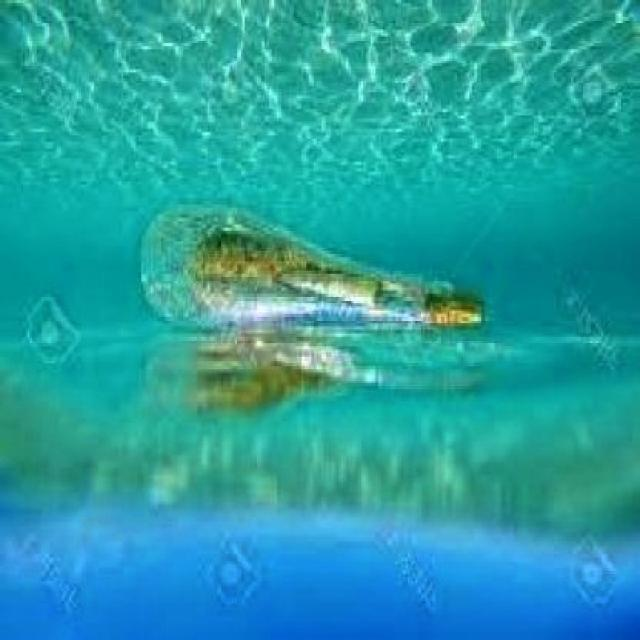gbottle: (138, 205, 482, 340)
